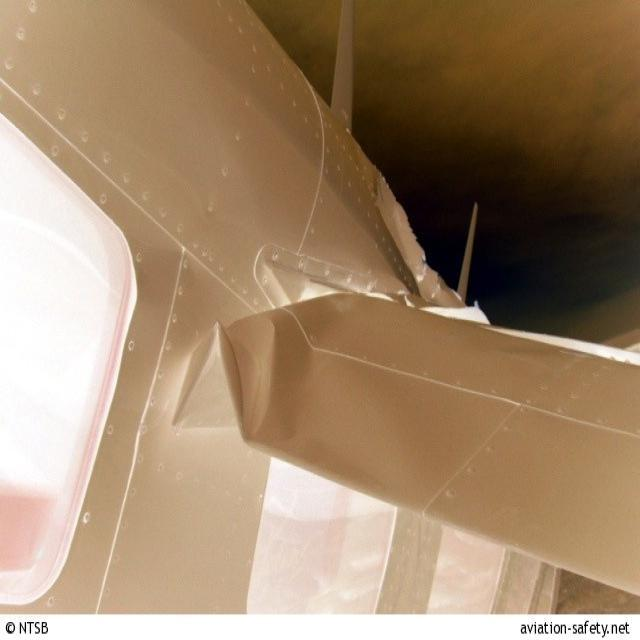dent: (161, 300, 279, 456)
